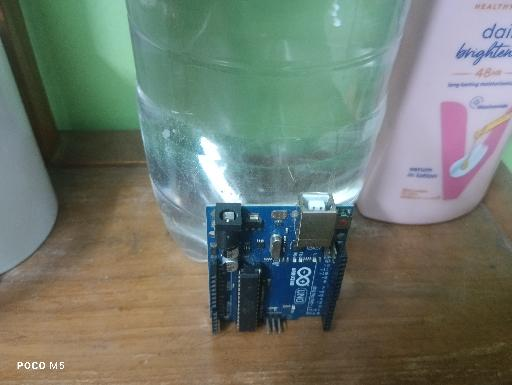Arduino: (205, 191, 356, 337)
